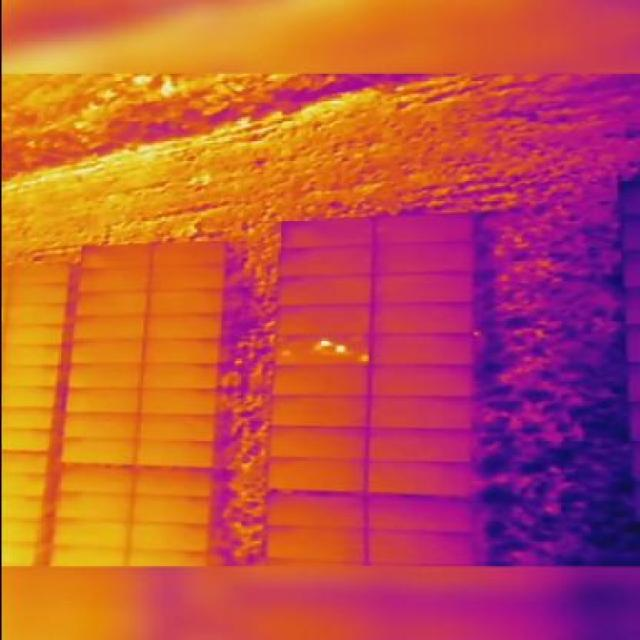panel: (366, 493, 480, 536), (261, 523, 370, 566), (366, 426, 478, 466), (366, 460, 478, 500), (365, 528, 480, 566), (259, 457, 368, 496), (259, 491, 368, 530), (368, 395, 478, 432), (262, 425, 370, 462), (369, 364, 480, 400), (372, 302, 481, 338), (370, 332, 479, 368), (265, 394, 370, 430), (273, 302, 374, 339), (271, 333, 372, 370), (374, 212, 479, 247), (373, 241, 478, 276), (373, 272, 478, 307), (268, 365, 372, 400), (277, 243, 376, 279), (277, 273, 376, 309), (278, 217, 376, 251), (132, 466, 218, 500), (131, 493, 215, 527), (128, 521, 212, 555), (134, 437, 217, 471), (52, 490, 135, 523), (50, 518, 133, 551), (137, 386, 219, 419), (137, 413, 219, 445), (55, 464, 136, 496), (60, 411, 140, 442), (58, 436, 138, 467), (145, 312, 225, 343), (139, 362, 221, 392), (64, 361, 144, 391), (62, 386, 142, 416), (148, 289, 227, 319), (72, 289, 150, 319), (75, 266, 152, 296), (69, 315, 148, 344), (66, 337, 145, 366), (150, 265, 228, 294), (143, 338, 221, 367), (152, 239, 226, 269), (78, 242, 153, 271), (8, 259, 72, 286), (6, 280, 70, 307), (4, 300, 68, 327), (3, 322, 65, 349), (2, 342, 64, 369), (1, 364, 61, 390)
